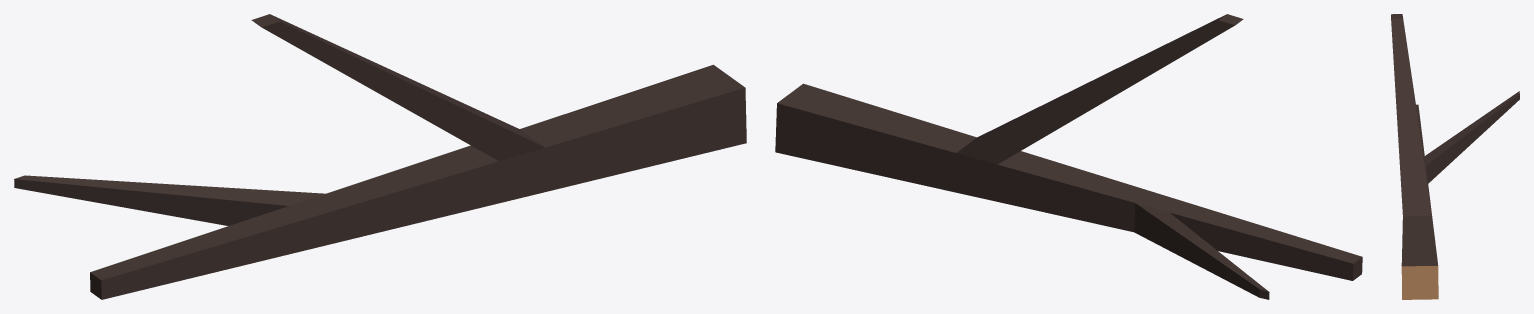
Rendered from branch.glb.
3 views of the same model, side by side, from view 1: azimuth 30°, elevation 25°; view 2: azimuth 150°, elevation 25°; view 3: azimuth 270°, elevation 25° (orthographic). The views are drawn at different scales.
Parts seen in each view (by area): view 1: branch_3.001; view 2: branch_3.001; view 3: branch_3.001.
Boxes of the visible parts, bbox=[...] form: branch_3.001: bbox=[14, 14, 746, 299]; branch_3.001: bbox=[775, 14, 1362, 299]; branch_3.001: bbox=[1391, 14, 1519, 299].
Size of the model in its own units: 2.37 by 0.8716 by 0.699.
